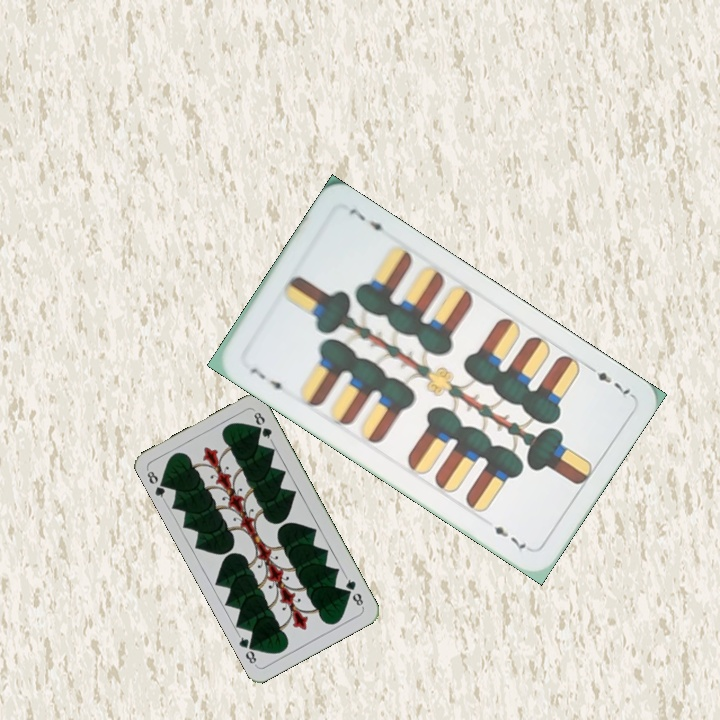E7: (583, 360, 633, 401), (246, 363, 289, 397)
G8: (143, 465, 171, 503), (341, 572, 366, 610)
